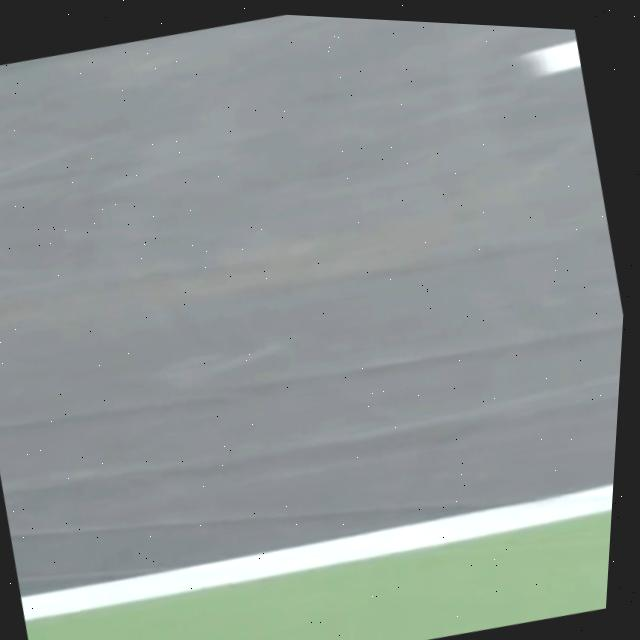center: (525, 39, 581, 73)
right: (20, 484, 613, 620)
